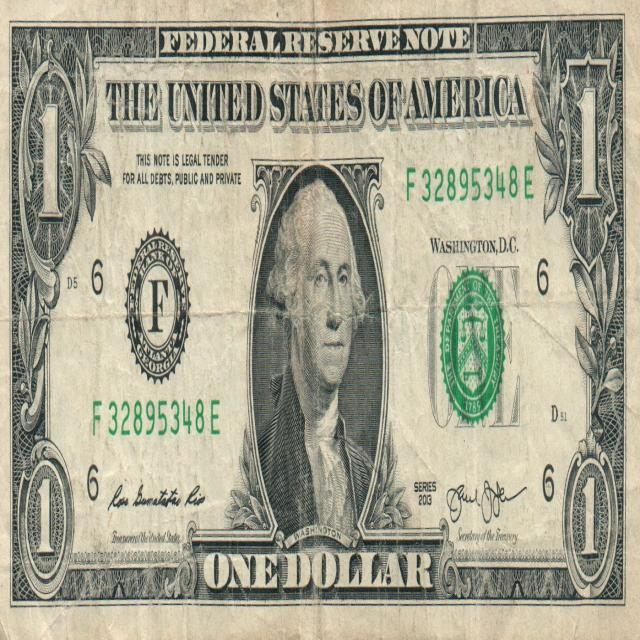SerialNumber: (407, 165, 533, 202), (108, 400, 219, 435)
